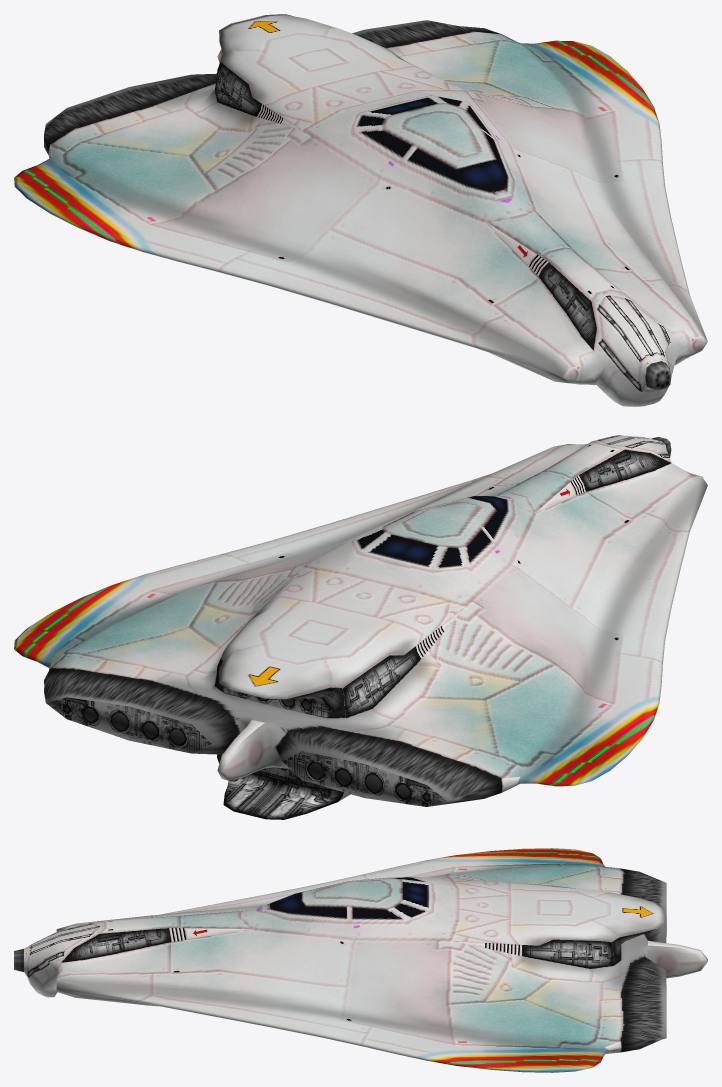
File: entourage.obj
The picture shows the model from 3 angles, top to bottom: view 1: azimuth 30°, elevation 25°; view 2: azimuth 150°, elevation 25°; view 3: azimuth 270°, elevation 25°; orthographic projection. The views are drawn at different scales.
Parts seen in each view (by area): view 1: octotoad1; view 2: octotoad1; view 3: octotoad1.
Part boxes in pixels (x1,y1,x2,y2): octotoad1: (14, 14, 707, 406); octotoad1: (14, 435, 707, 819); octotoad1: (14, 848, 707, 1072).
Bounding box in the file's own units: 10.73 × 2.86 × 14.09.
1 material, 1 textured.
